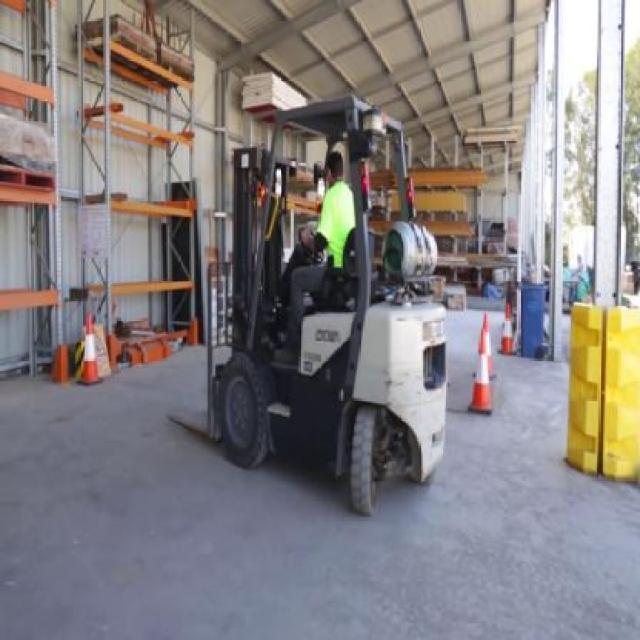forklift: (225, 99, 445, 519)
